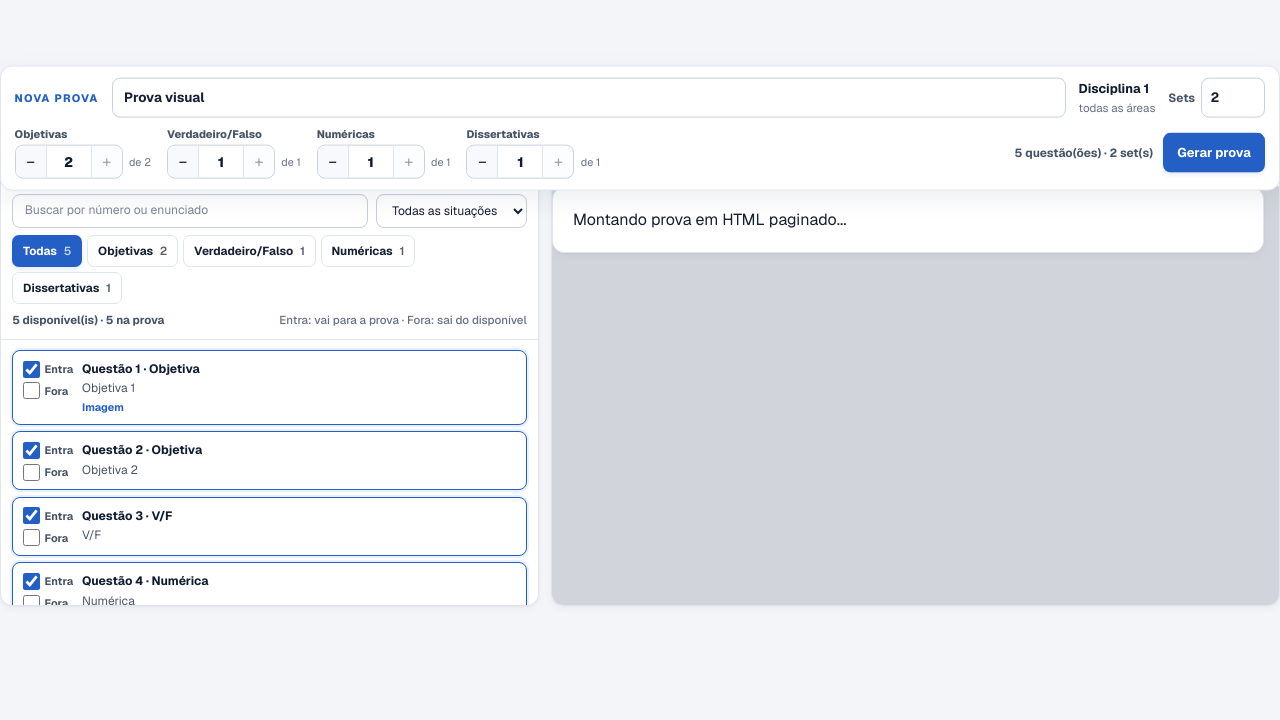
Test case: VisualExamBuilder › steps type quantities with the minus and plus buttons
The image size is (1280, 720).
Expected: the button named "Aumentar Objetivas" is disabled, [92,146,122,178]
Click the button named "Diminuir Objetivas" at (31, 162), box [16,146,46,178]
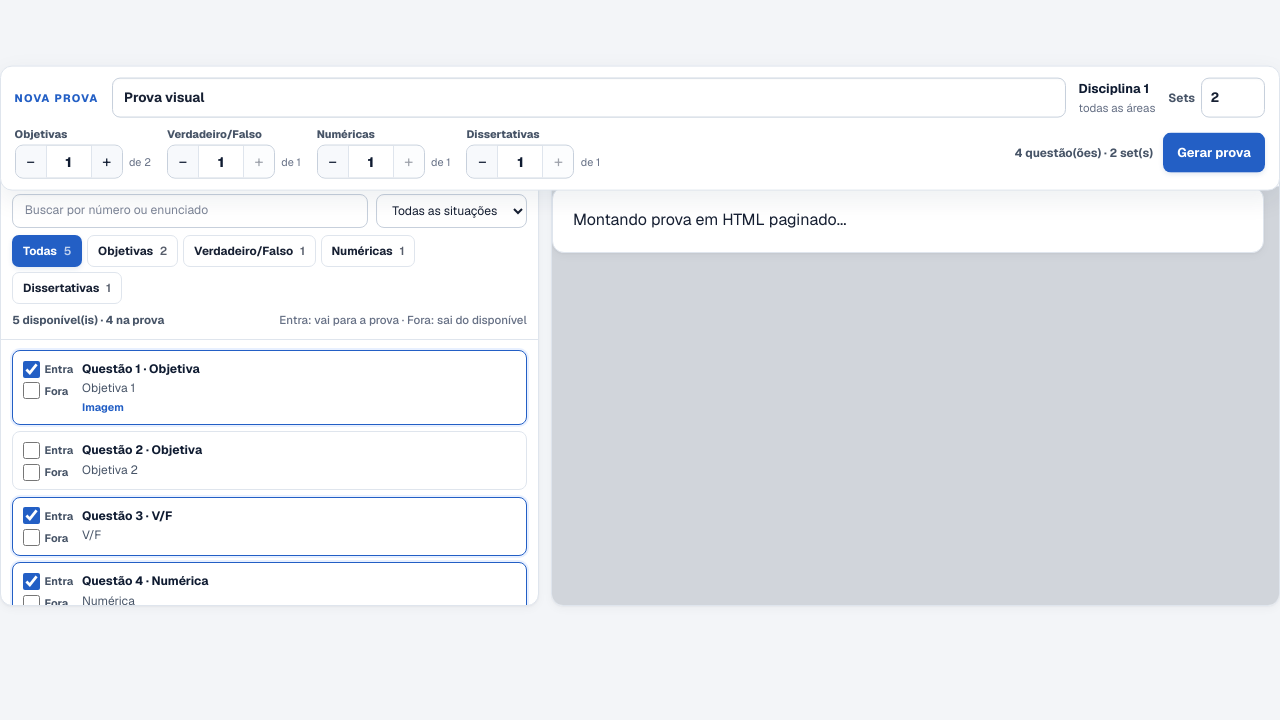
Now the number field named "Quantidade de Objetivas" holds "1", box [46,146,92,178]
Click the button named "Aumentar Objetivas" at (107, 162), box [92,146,122,178]
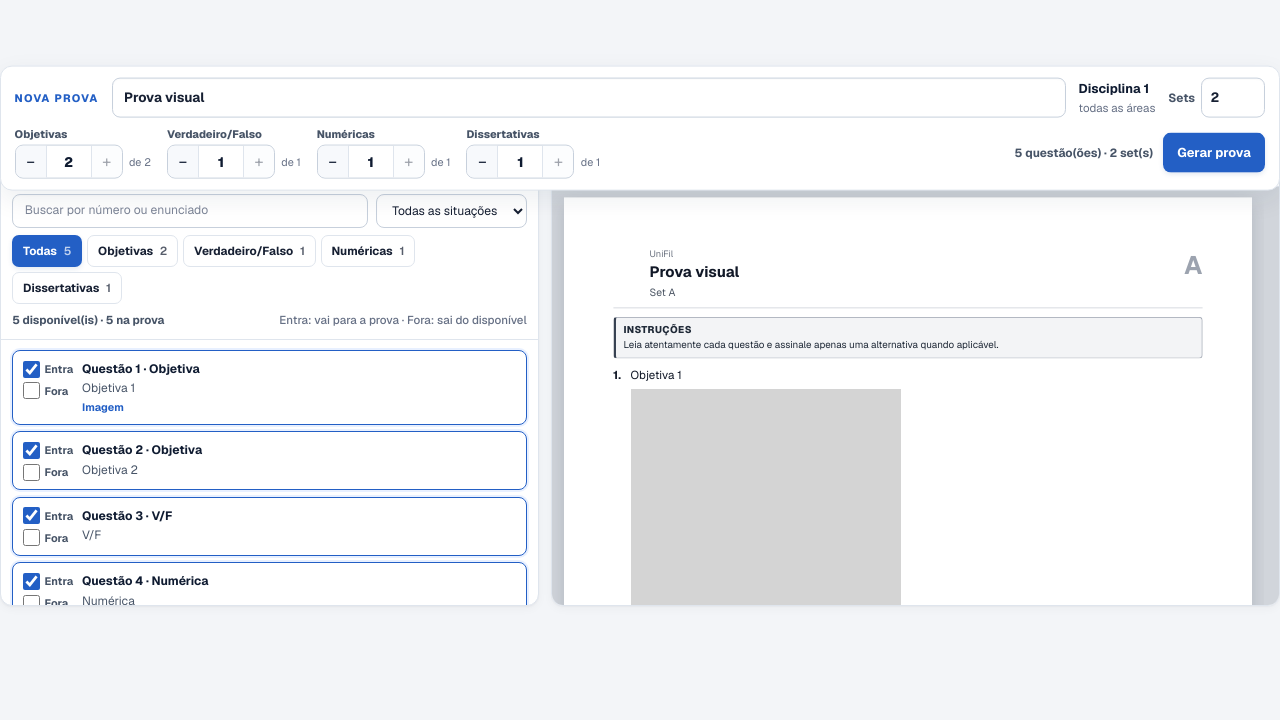
Now the number field named "Quantidade de Objetivas" holds "2", box [46,146,92,178]
